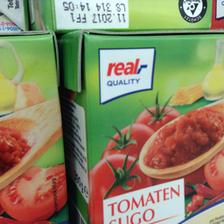tomato_sauce: (61, 30, 223, 224)
